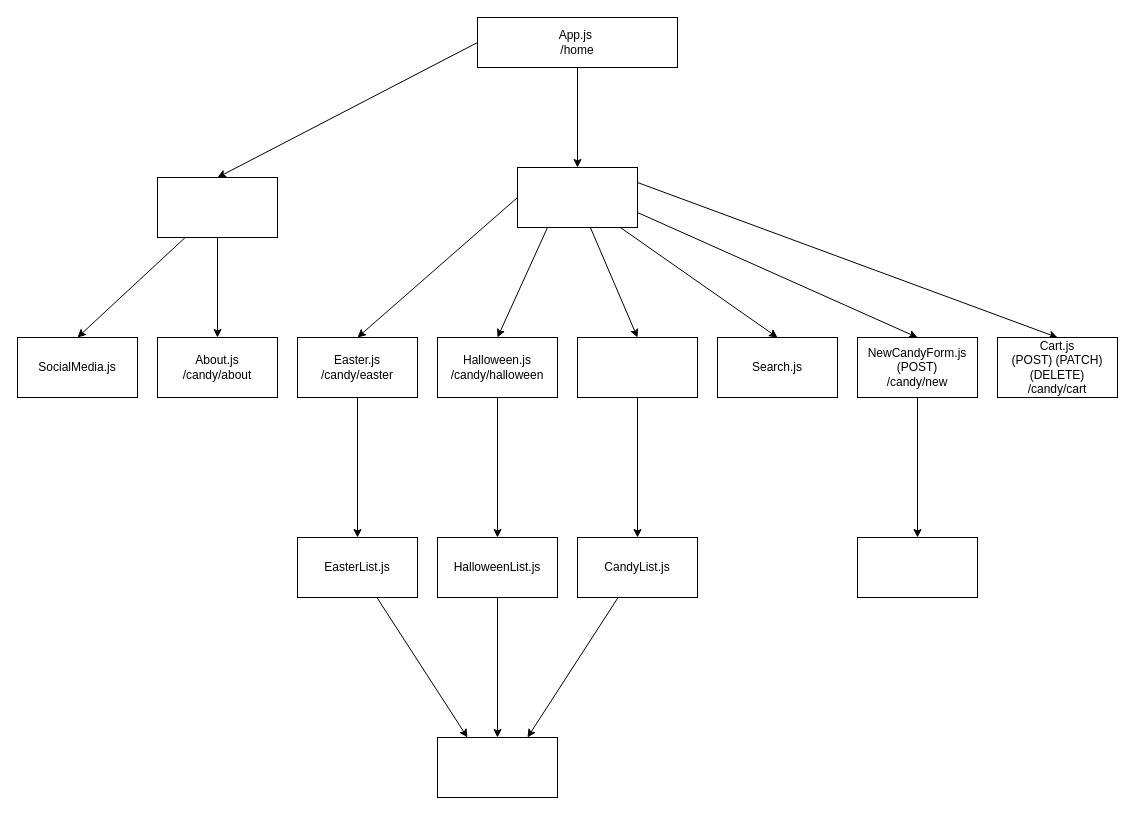
Image size: 1135x815. Some labels were removed from this diagram. The centre of each missing label's shape, as x and y in pixels:
"AllCandy.js /candy" belongs at point (637, 367).
"Candy.js (GET)" belongs at point (577, 197).
"CandyItem.js /candy/item/:id" belongs at point (497, 767).
"Navbar.js (routes)" belongs at point (217, 207).
"SuccesfulPost.js /candy/new/succesful" belongs at point (917, 567).
